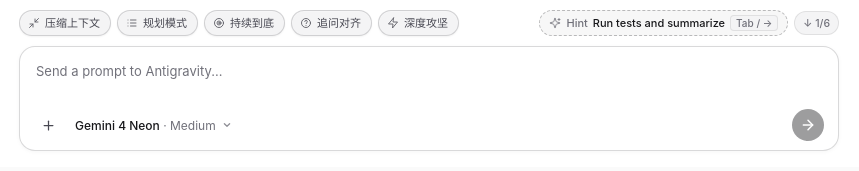
Test: Composer › supports ghost suggestions with Tab and ArrowRight accept and cycle button
This screenshot has width=859, height=171.
Expected: the element with test id "composer-ghost-bar" is shown, x1=540 y1=10 x2=839 y2=36
Expected: the text with test id "composer-ghost-text" reads "Run tests and summarize", x1=593 y1=16 x2=725 y2=30
Click the button with test id "composer-ghost-cycle".
click(817, 23)  # box x1=794 y1=11 x2=839 y2=35
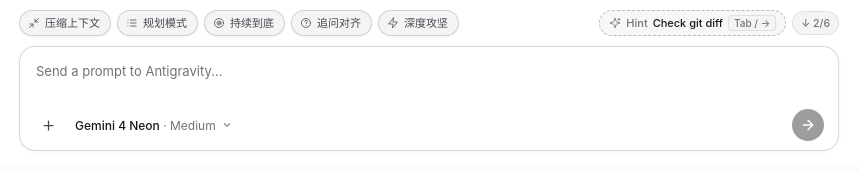
Now the text with test id "composer-ghost-text" reads "Check git diff", box x1=653 y1=16 x2=723 y2=30
Press ArrowRight in the text box with test id "composer-textarea", box x1=34 y1=59 x2=824 y2=105
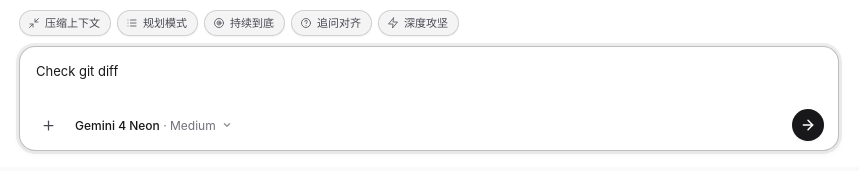
Now the text box with test id "composer-textarea" holds "Check git diff"
Clear the text box with test id "composer-textarea" at [429, 82], box x1=34 y1=59 x2=824 y2=105
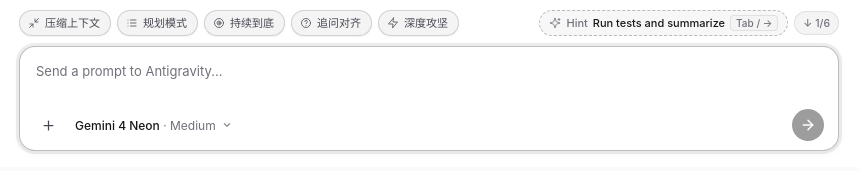
Press Tab in the text box with test id "composer-textarea", box x1=34 y1=59 x2=824 y2=105
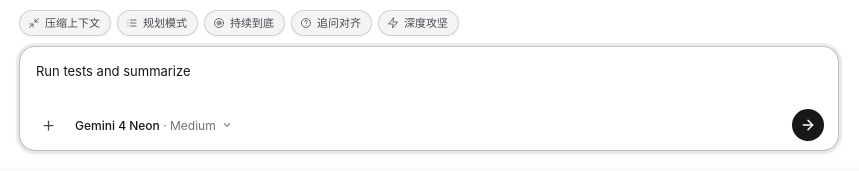
Now the text box with test id "composer-textarea" holds "Run tests and summarize", box x1=34 y1=59 x2=824 y2=105
